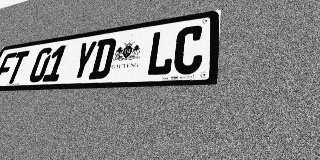0: (27, 47, 54, 83)
1: (42, 44, 69, 82)
C: (172, 24, 205, 75)
D: (88, 37, 117, 79)
F: (0, 52, 17, 84)
L: (145, 29, 177, 76)
T: (5, 50, 30, 84)
Y: (69, 40, 98, 80)
